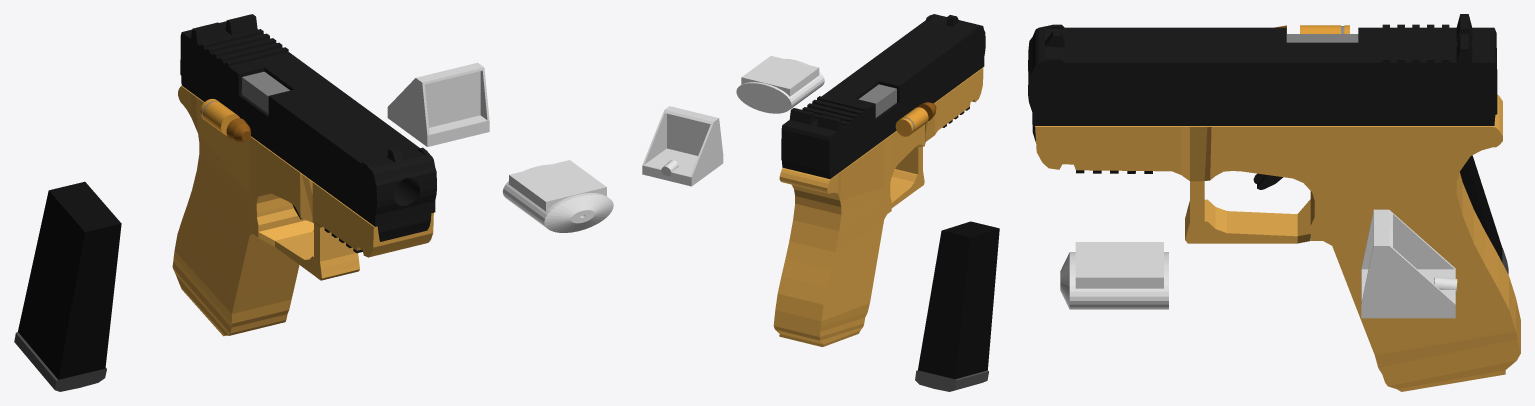
The model's file is glock.fbx.
The picture shows the model from 3 angles, left to right: view 1: azimuth 30°, elevation 25°; view 2: azimuth 150°, elevation 25°; view 3: azimuth 270°, elevation 25°; orthographic projection. The views are drawn at different scales.
Visible parts, largest first — view 1: Body, Barrel, Magazine, Laser, scope, scopeLence, bulletShell; view 2: Body, Barrel, Magazine, scope, Laser, scopeLence, bulletShell; view 3: Body, Barrel, scope, Laser, Magazine, bulletShell.
Boxes of the visible parts, bbox=[...] form: Body: bbox=[172, 86, 433, 336]; Barrel: bbox=[180, 14, 436, 241]; Magazine: bbox=[14, 181, 121, 391]; Laser: bbox=[502, 160, 613, 232]; scope: bbox=[387, 62, 489, 146]; scopeLence: bbox=[425, 71, 480, 127]; bulletShell: bbox=[200, 98, 239, 135]; Body: bbox=[773, 67, 983, 346]; Barrel: bbox=[781, 14, 985, 178]; Magazine: bbox=[915, 221, 999, 391]; scope: bbox=[642, 106, 723, 186]; Laser: bbox=[736, 56, 824, 113]; scopeLence: bbox=[667, 113, 710, 155]; bulletShell: bbox=[895, 107, 928, 136]; Body: bbox=[1035, 94, 1520, 391]; Barrel: bbox=[1028, 14, 1497, 141]; scope: bbox=[1361, 209, 1457, 318]; Laser: bbox=[1060, 242, 1168, 309]; Magazine: bbox=[1460, 155, 1508, 274]; bulletShell: bbox=[1300, 25, 1349, 33].
Size of the model in its own units: 1563 by 1106 by 1341.
